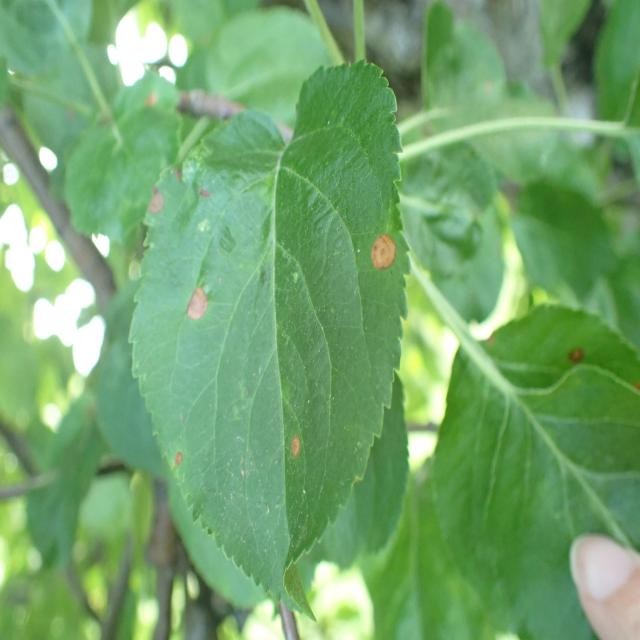frog-eye-leaf-spot: (128, 58, 413, 621), (429, 300, 640, 640)
